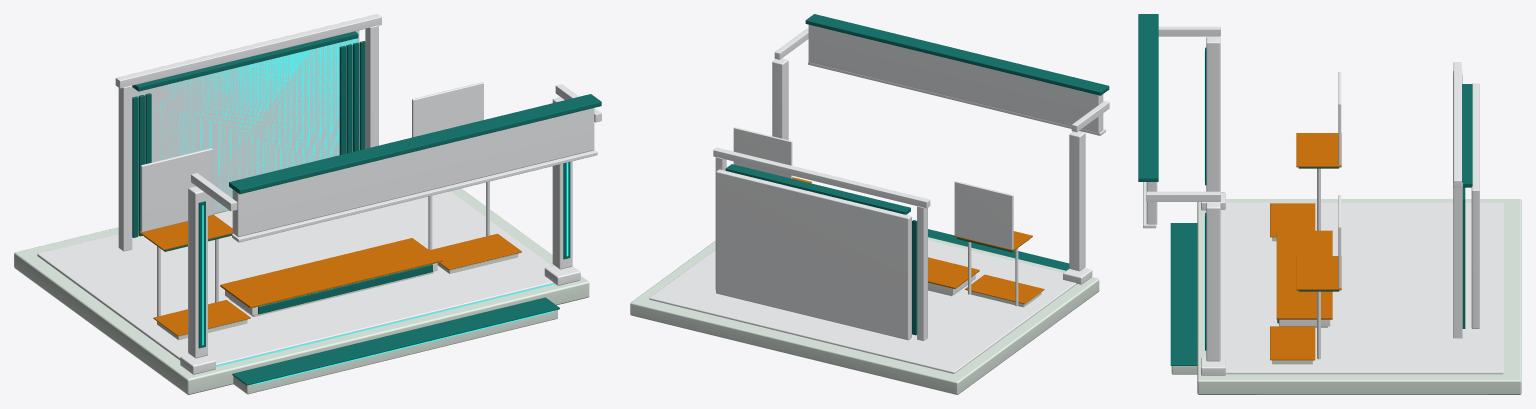
File: solaris_energy_v2.glb
3 renders of one model, left to right at view 1: azimuth 30°, elevation 25°; view 2: azimuth 150°, elevation 25°; view 3: azimuth 270°, elevation 25°, orthographic. The views are drawn at different scales.
Visible parts, largest first — view 1: solaris_energy_v2; view 2: solaris_energy_v2; view 3: solaris_energy_v2.
Boxes of the visible parts, box(x1,y1,x2,y2) form: solaris_energy_v2: box(14, 14, 601, 394); solaris_energy_v2: box(630, 14, 1109, 394); solaris_energy_v2: box(1138, 14, 1521, 394).
Bounding box in the file's own units: 7.24 × 3.86 × 6.43.
